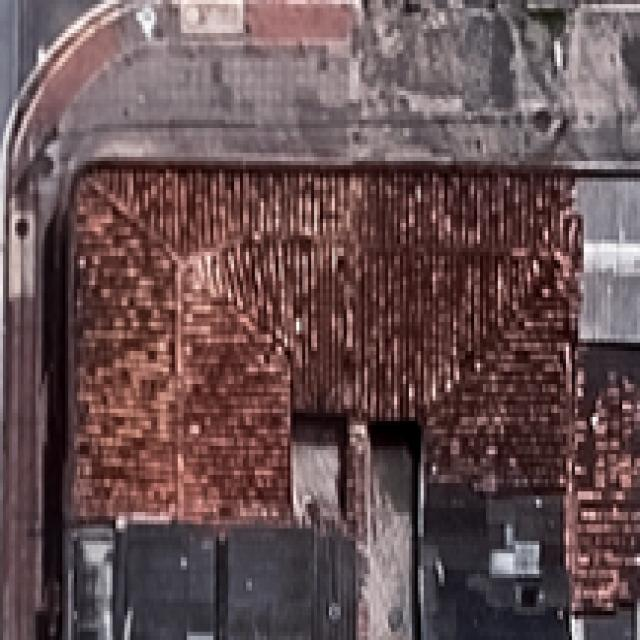Batiment: (75, 165, 579, 522), (571, 345, 640, 637)
